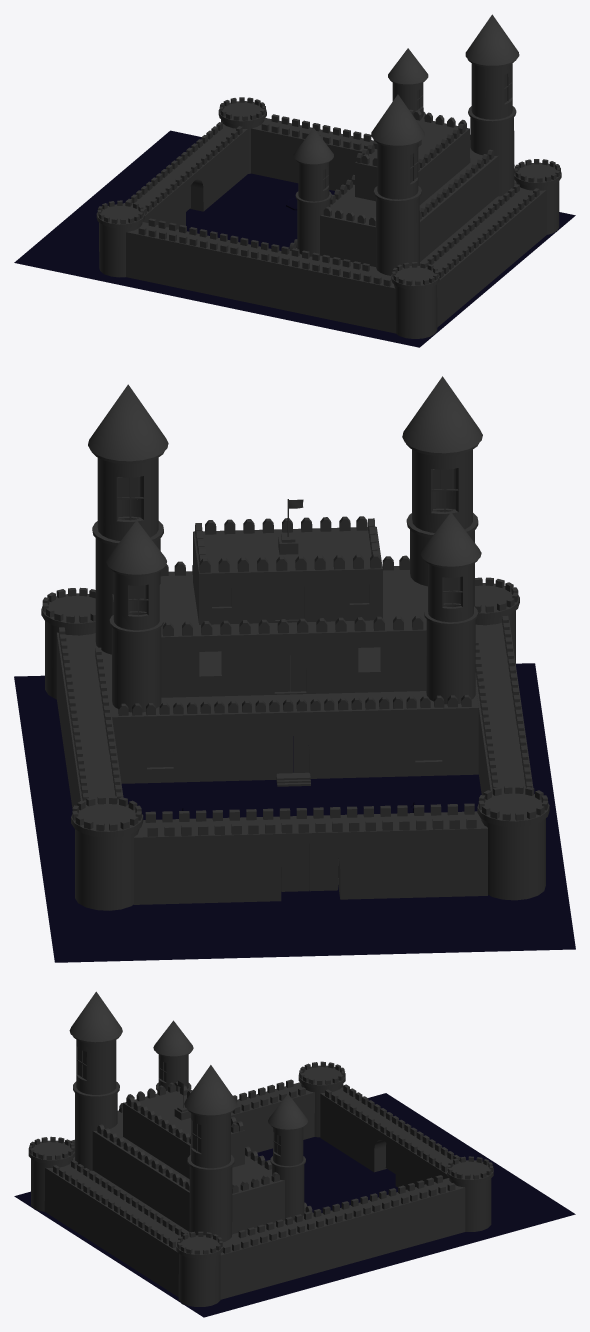
File: Castle OBJ.obj
3 views of the same model, one above another, from view 1: azimuth 30°, elevation 25°; view 2: azimuth 150°, elevation 25°; view 3: azimuth 270°, elevation 25° (orthographic). The views are drawn at different scales.
Visible parts, largest first — view 1: Castle_OBJ; view 2: Castle_OBJ; view 3: Castle_OBJ.
Part boxes in pixels (box(x1,y1,x2,y2)): Castle_OBJ: box(14, 14, 575, 347); Castle_OBJ: box(14, 376, 575, 962); Castle_OBJ: box(14, 991, 575, 1317).
Size of the model in its own units: 3.01 by 1.35 by 3.17.
